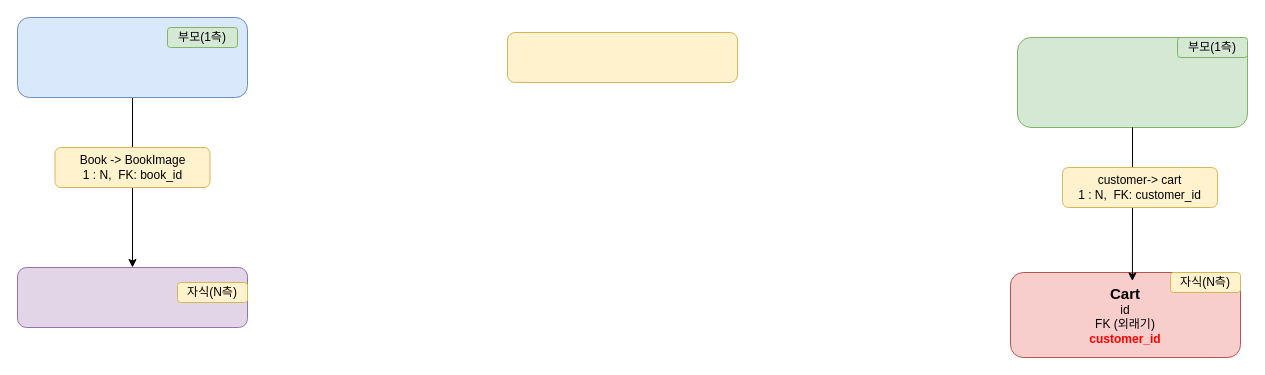
This 1265x375 diagram has some shape labels left out. The shapes that lost their labels are listed below. From the top down, each one's box as (x1, y1, x2, y2) in pixels, then its label:
(16, 16, 248, 98): Book id
(506, 32, 738, 82): Review
(1016, 36, 1248, 128): Customer id
(16, 266, 248, 328): BookImage id FK(외래키) book_id
